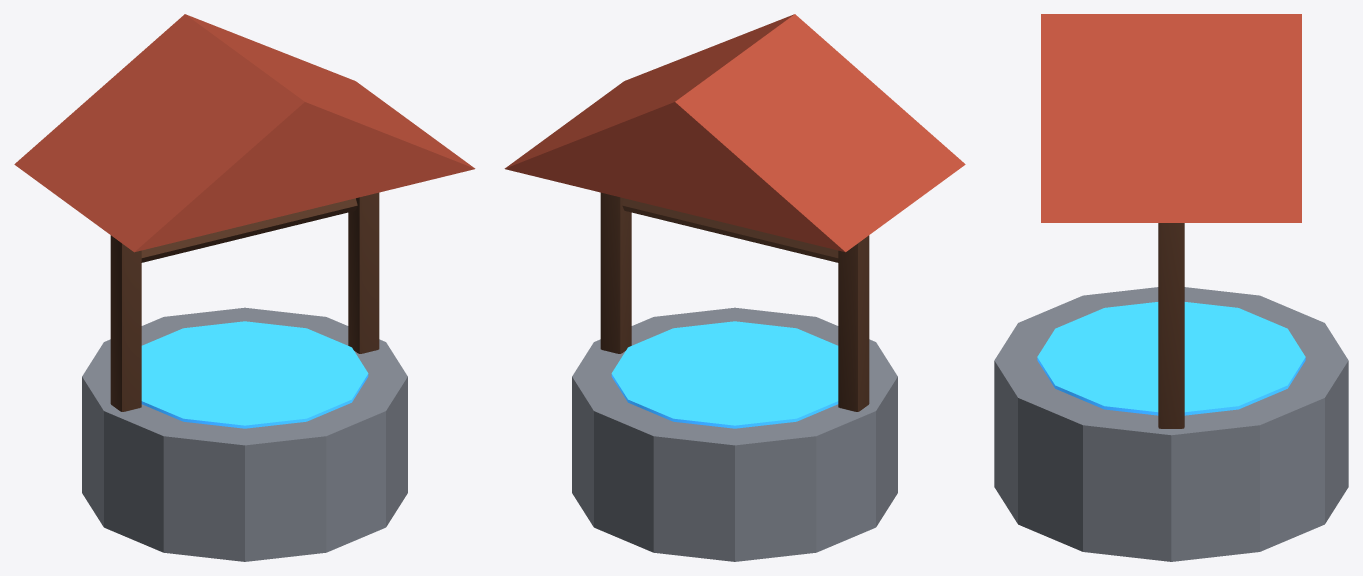
File: well.glb
3 views of the same model, side by side, from view 1: azimuth 30°, elevation 25°; view 2: azimuth 150°, elevation 25°; view 3: azimuth 270°, elevation 25° (orthographic). The views are drawn at different scales.
Visible parts, largest first — view 1: well; view 2: well; view 3: well.
Part boxes in pixels (<box>): well: <box>14,14,475,561</box>; well: <box>504,14,965,561</box>; well: <box>994,14,1348,561</box>.
Bounding box in the file's own units: 2.3 × 2.8 × 1.9.
